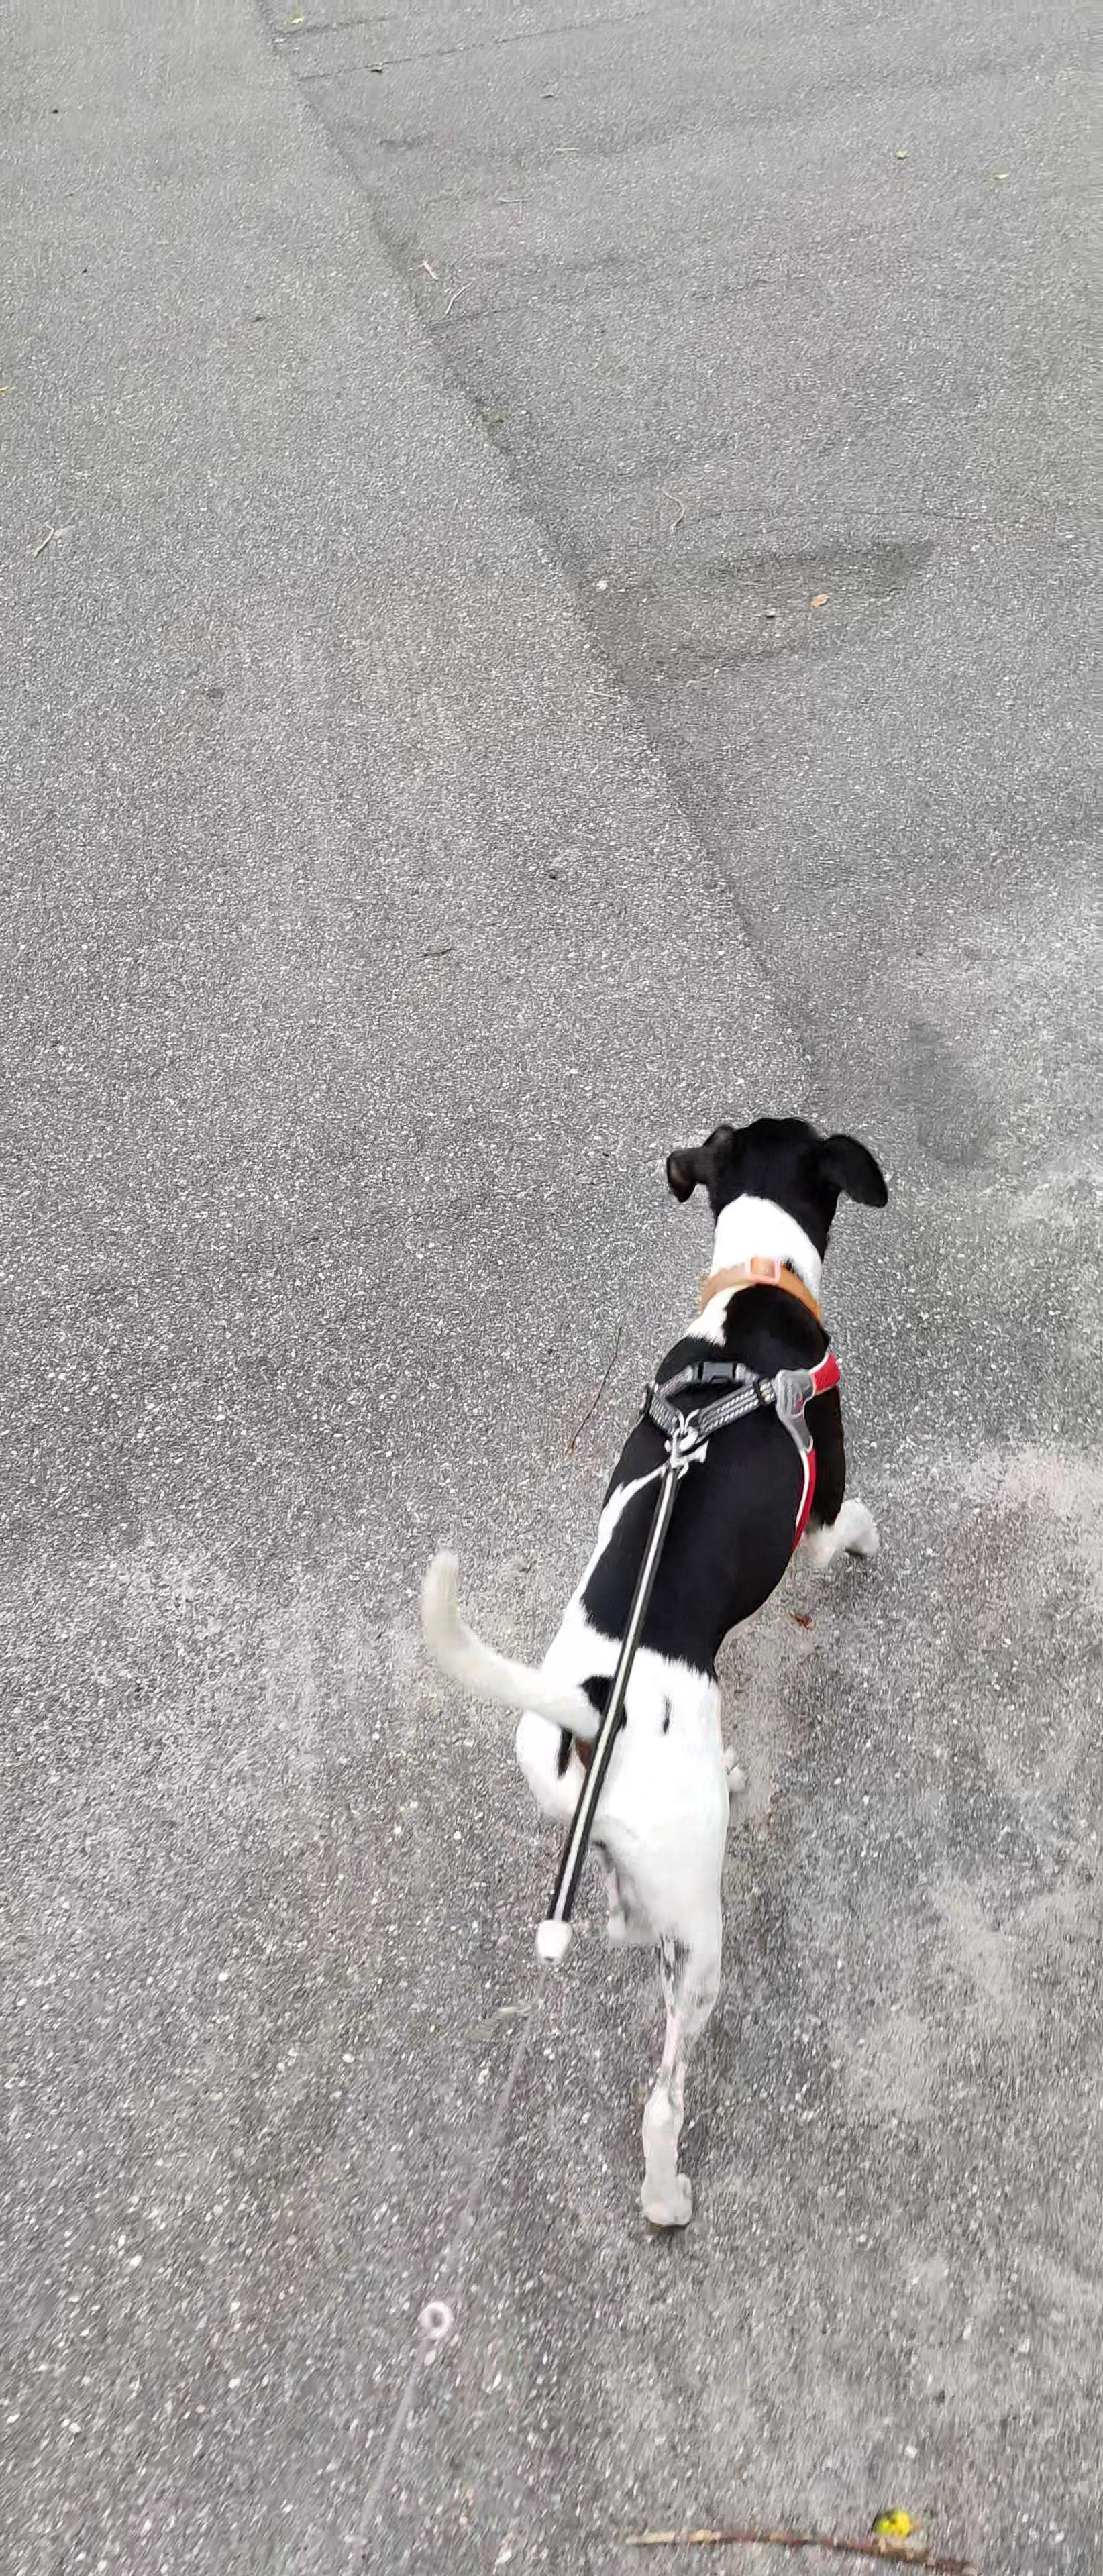Dog: (408, 1101, 891, 2236)
